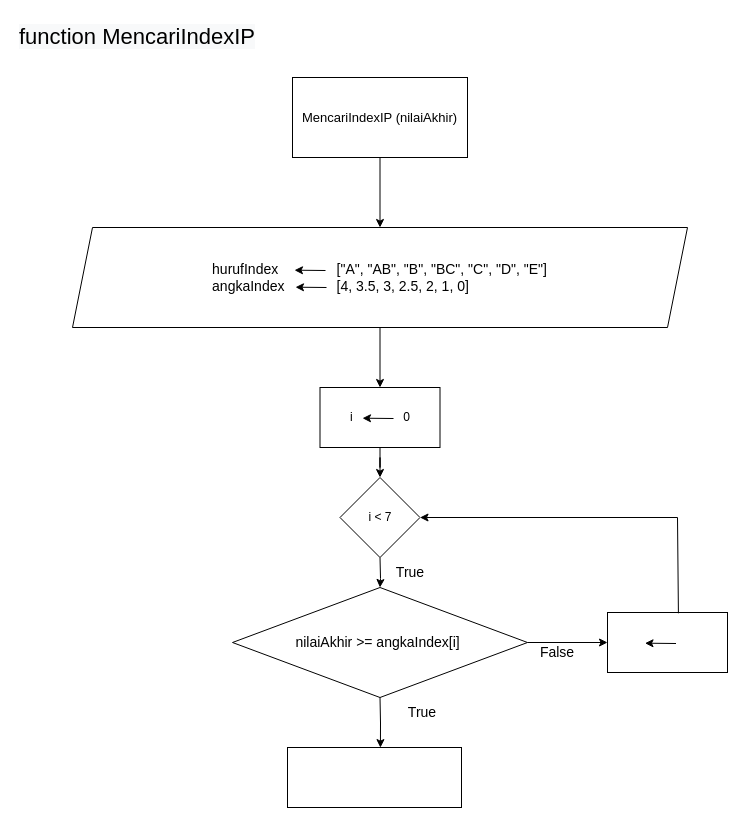
This 745x825 diagram has some shape labels left out. Here are the shapes that lost their labels. From the top down, the box of each, then its label:
(606, 612, 728, 672): i i + 1
(286, 746, 462, 808): return hurufIndex[i]
